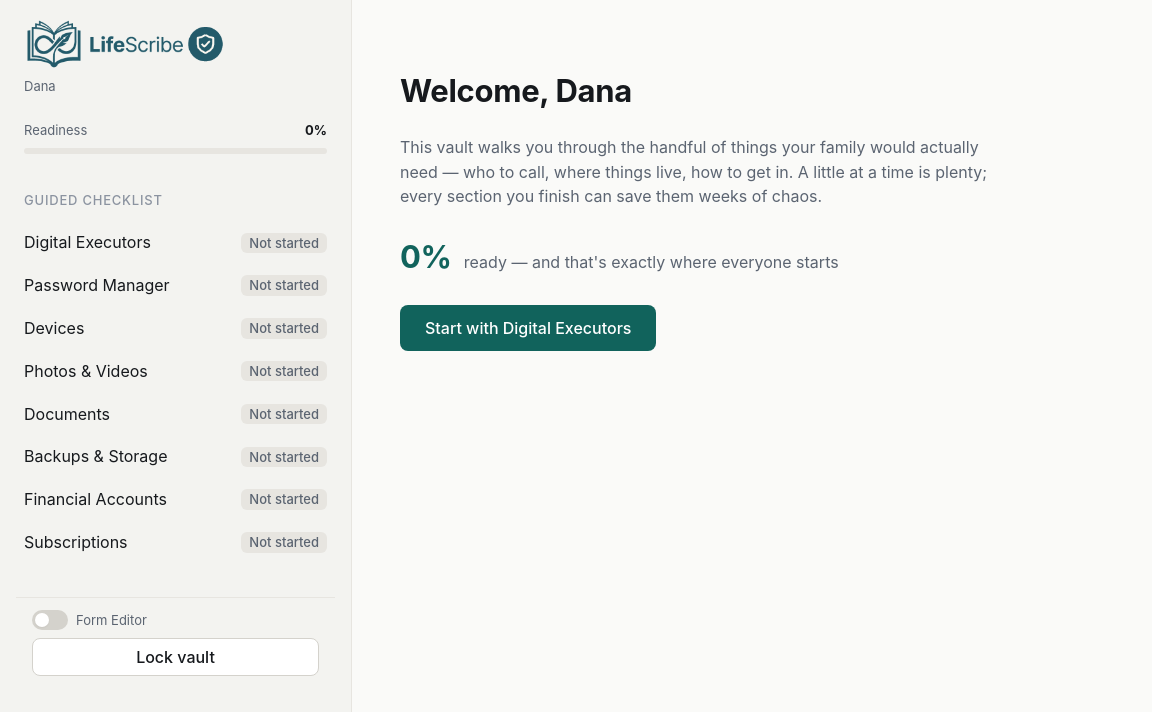
Dashboard branded phase states › rebases saved form edits onto newly bundled fields
expect the heading "Welcome, Dana" is shown: met, box [400,72,632,109]
Click the button "Digital Executors Not started": point(87, 242) [16,222,335,263]
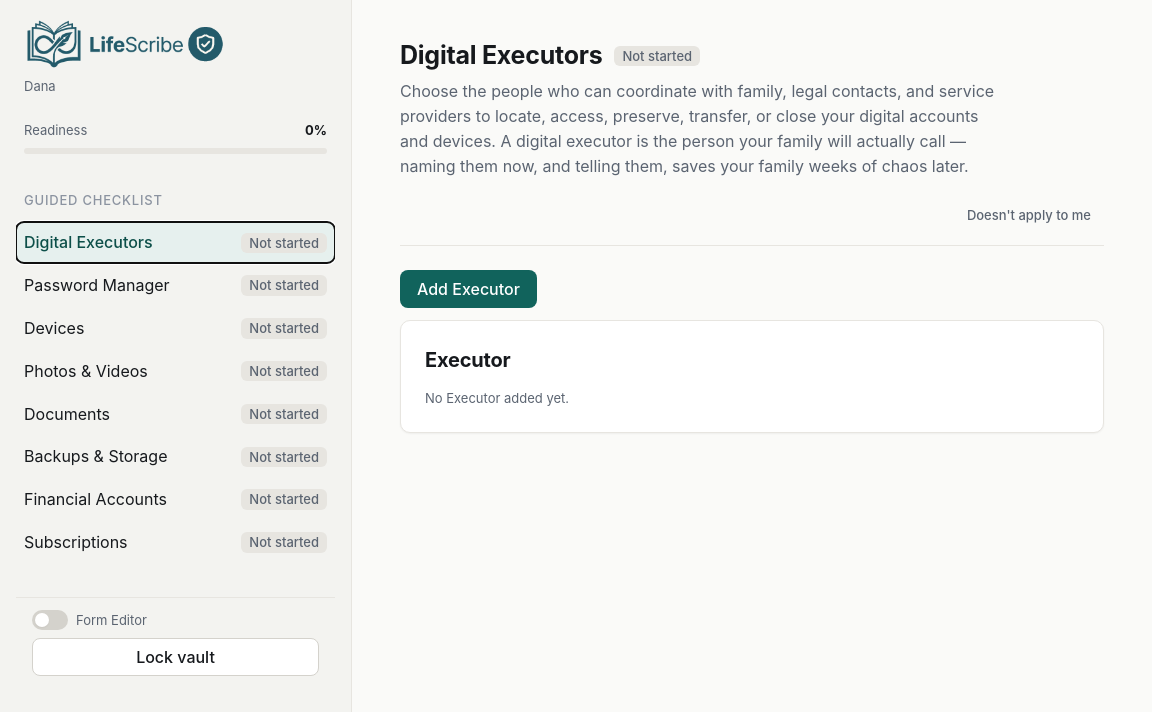
Click the button "Add Executor": point(468, 289) [400,270,537,308]
(page scrolled)
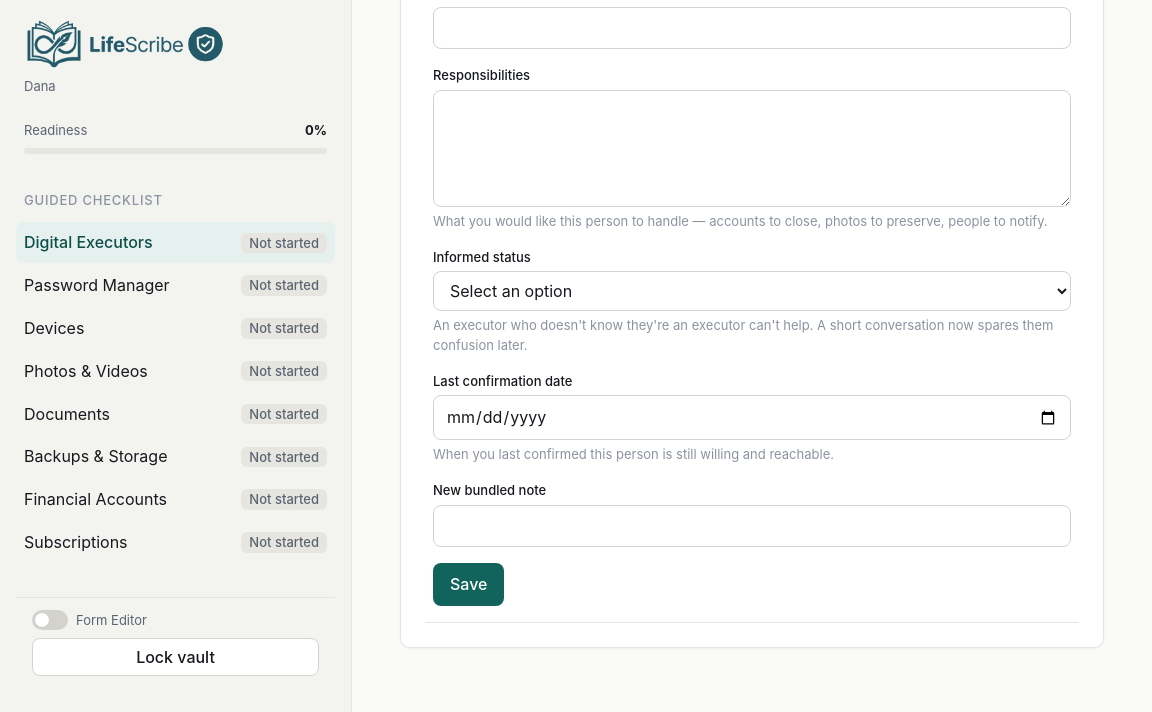
expect the field labelled "New bundled note" is shown: met, box [433,504,1071,547]
